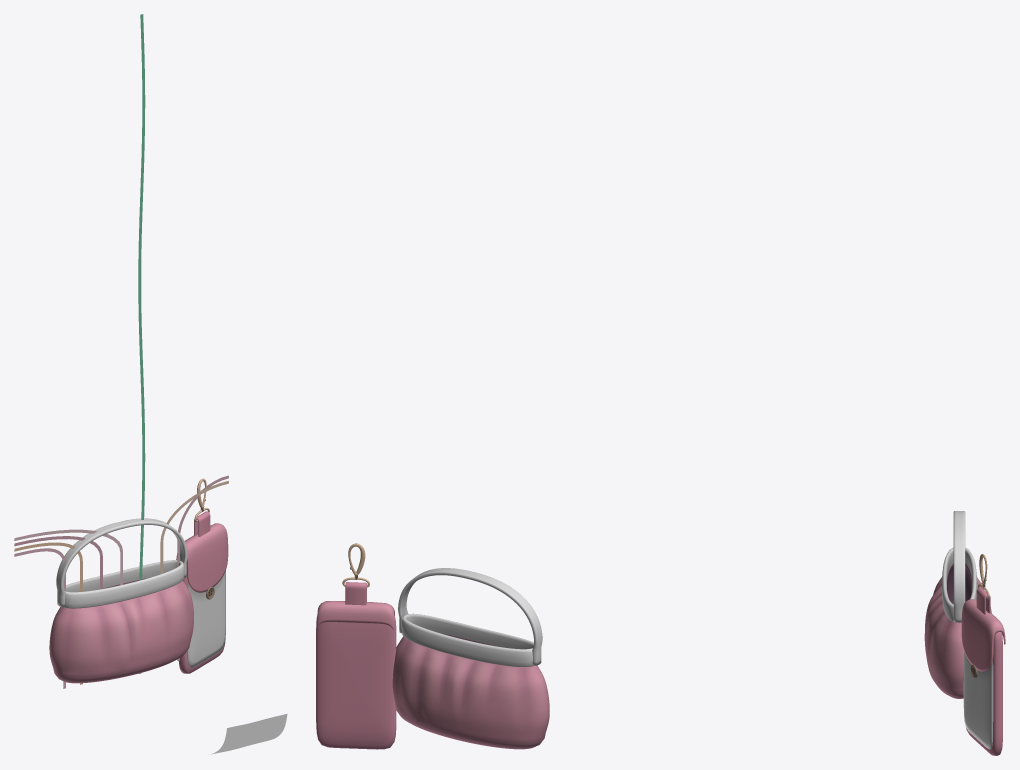
Rendered from weave.glb.
The picture shows the model from 3 angles, left to right: view 1: azimuth 30°, elevation 25°; view 2: azimuth 150°, elevation 25°; view 3: azimuth 270°, elevation 25°; orthographic projection. The views are drawn at different scales.
Visible parts, largest first — view 1: NoiBody, Threads, NoiBand, LipFront, LipFlap, NoiHandle, Panel; view 2: NoiBody, LipBody, NoiBand, NoiHandle, LipFlap; view 3: NoiBody, LipFront, LipFlap, NoiHandle, LipBody, NoiBand.
Part boxes in pixels (x1,y1,x2,y2): NoiBody: (49, 578, 193, 683); Threads: (14, 14, 228, 688); NoiBand: (64, 560, 184, 608); LipFront: (187, 570, 225, 667); LipFlap: (176, 523, 228, 592); NoiHandle: (56, 518, 187, 607); Panel: (210, 713, 287, 754); NoiBody: (392, 633, 549, 749); LipBody: (316, 614, 396, 749); NoiBand: (401, 613, 533, 666); NoiHandle: (398, 568, 542, 665); LipFlap: (317, 601, 394, 630); NoiBody: (924, 563, 991, 698); LipFront: (963, 650, 993, 749); LipFlap: (961, 599, 1005, 671); NoiHandle: (953, 511, 965, 622); LipBody: (966, 632, 1002, 755); NoiBand: (942, 547, 976, 621).
Size of the model in its own units: 1.37 by 3.9 by 1.64.
